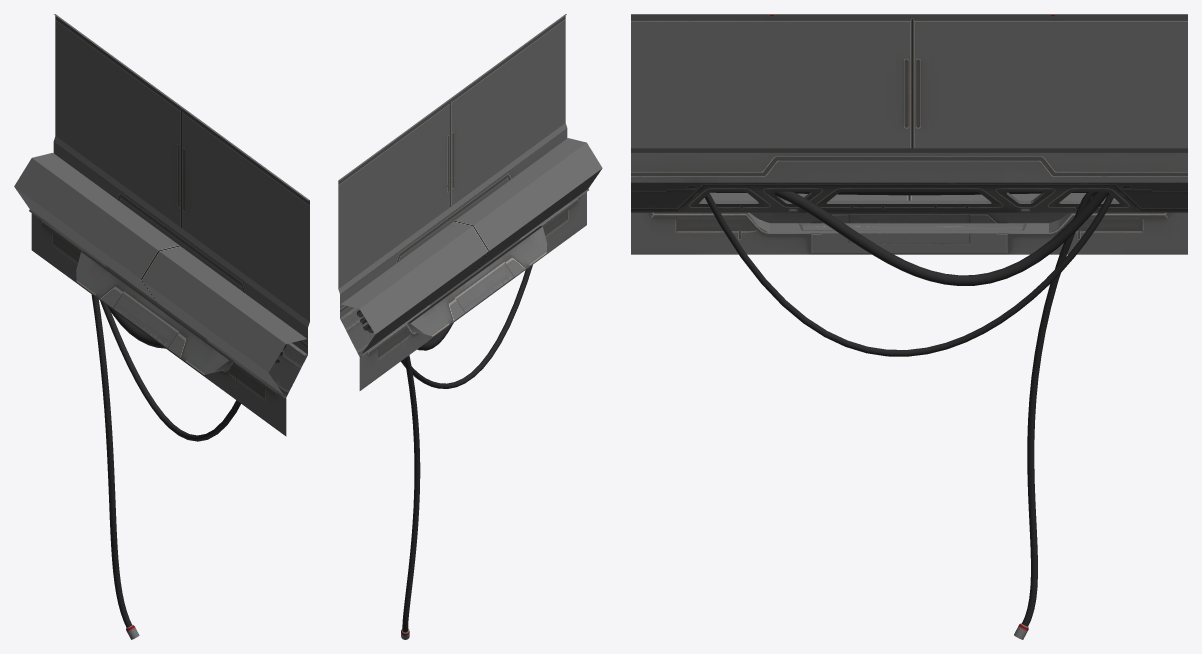
Rendered from TopCables_Straight_Hanging.glb.
The picture shows the model from 3 angles, left to right: view 1: azimuth 30°, elevation 25°; view 2: azimuth 150°, elevation 25°; view 3: azimuth 270°, elevation 25°; orthographic projection. The views are drawn at different scales.
Parts seen in each view (by area): view 1: TopCables_Straight_Hanging; view 2: TopCables_Straight_Hanging; view 3: TopCables_Straight_Hanging.
Part boxes in pixels (bbox=[...]): TopCables_Straight_Hanging: bbox=[14, 14, 309, 639]; TopCables_Straight_Hanging: bbox=[338, 14, 602, 639]; TopCables_Straight_Hanging: bbox=[631, 14, 1187, 639].
Bounding box in the file's own units: 0.4417 × 4.94 × 4.
Materials: 3 (3 with a texture image).
